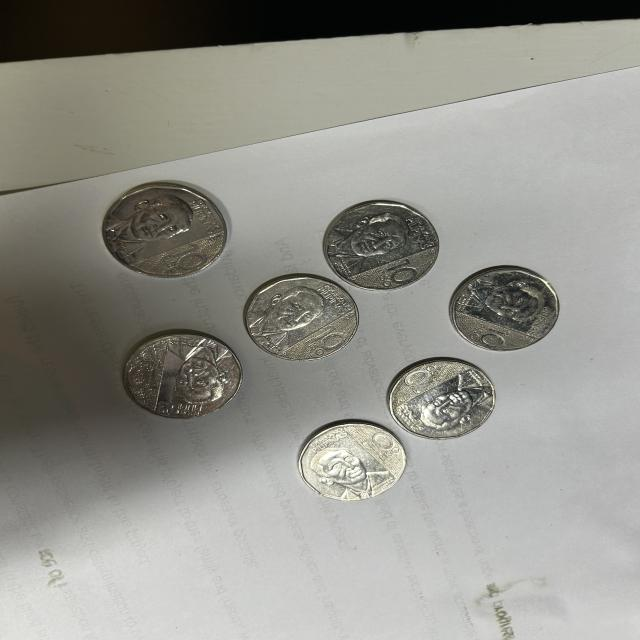10_New_Front: (152, 232, 206, 281), (298, 312, 352, 361), (355, 425, 406, 467), (467, 322, 515, 351), (124, 356, 156, 394), (400, 365, 449, 389), (372, 263, 416, 286)
